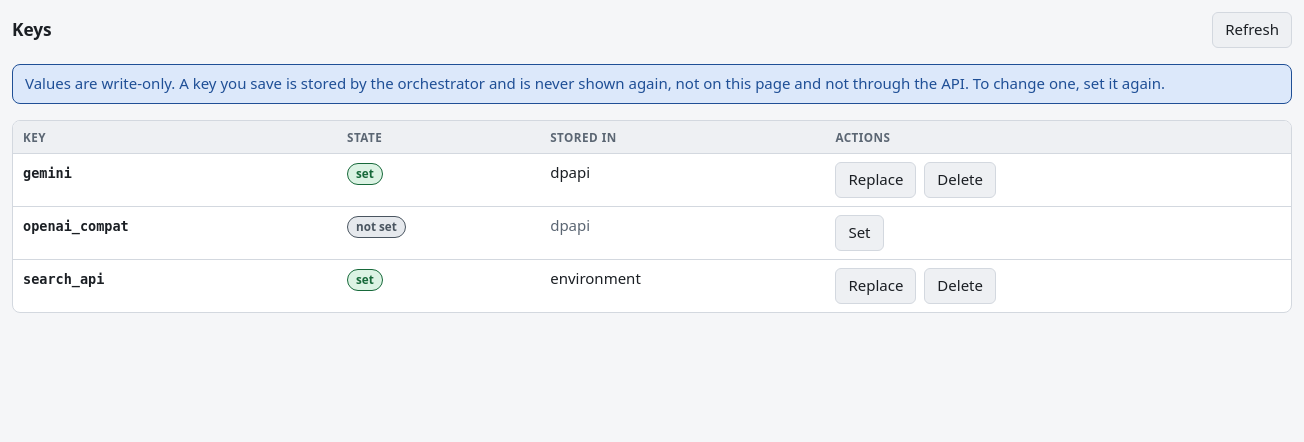
Test case: setting a key › a failure that is not an ApiClientError gets a generic message, never the raw error
Check: the text "gemini" is shown, box [23,166,72,182]
Click the button "Set". click: x=859, y=233
box: [835,215,884,251]
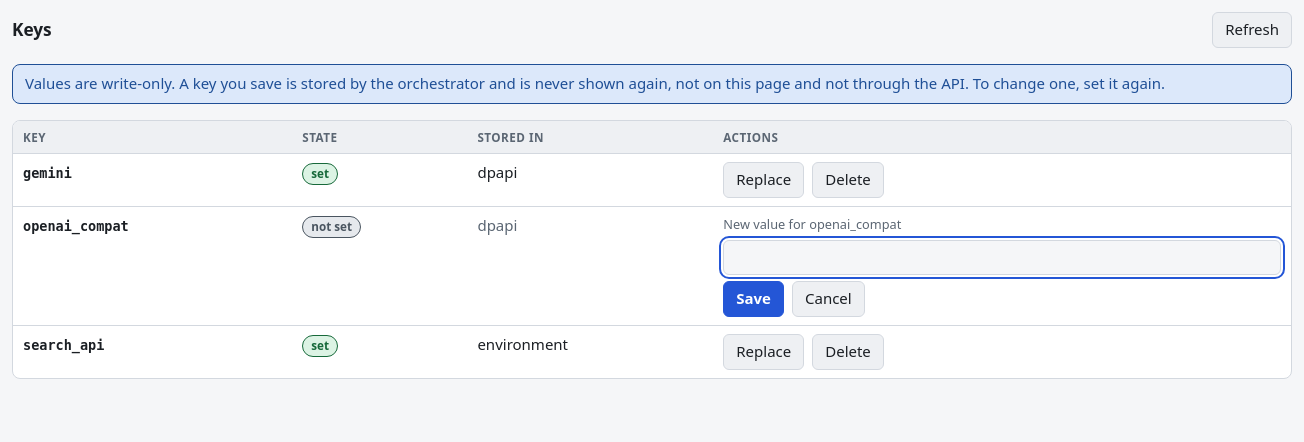
Type "test-secret-123" into the password field labelled "New value for openai_compat". click: x=1002, y=258
box: [723,240,1281,276]
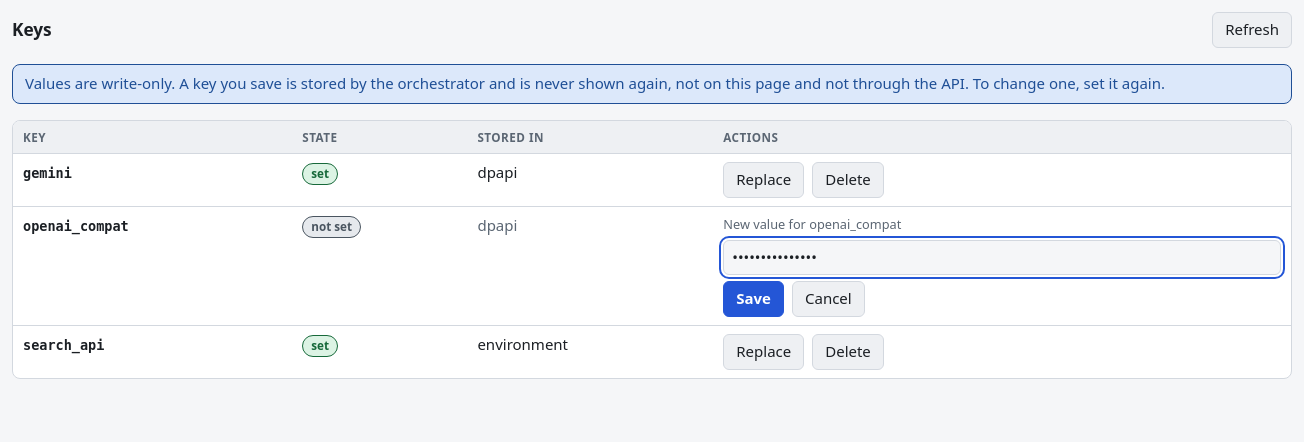
Submit the form, box [723,215,1281,317]
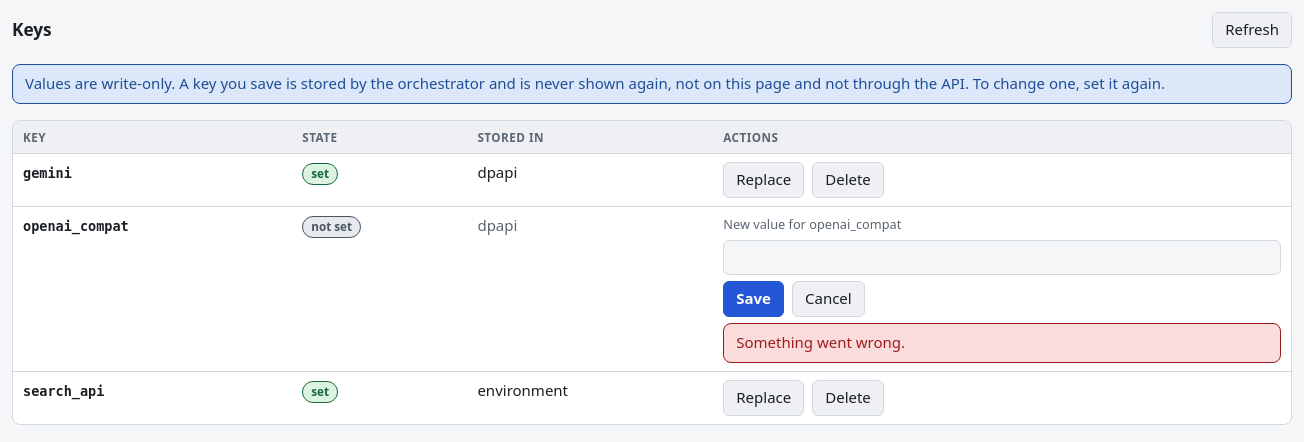
Check: the message "Something went wrong." is shown, box [723,323,1281,363]
